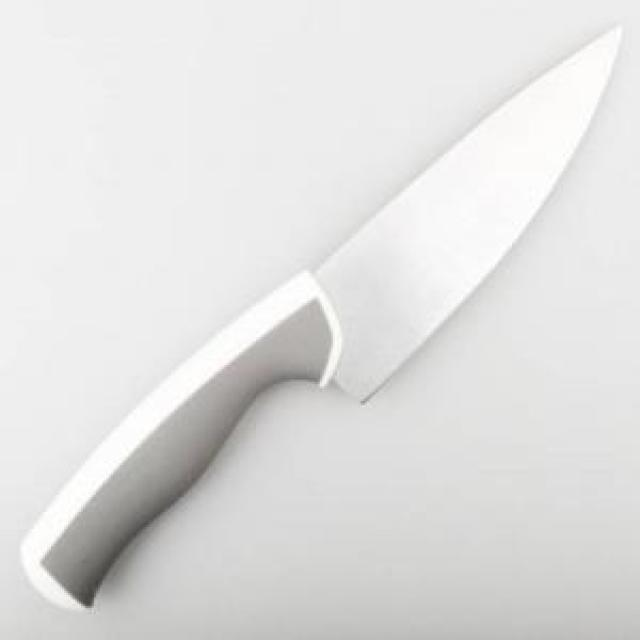knife: (17, 17, 626, 613)
